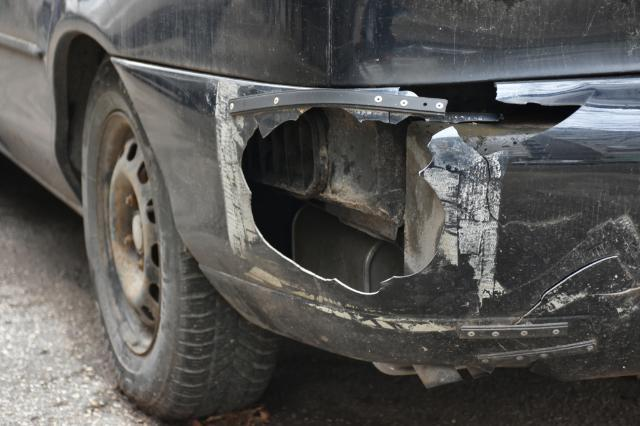crack: (234, 77, 578, 292), (514, 255, 619, 327)
rub: (215, 78, 257, 258)
